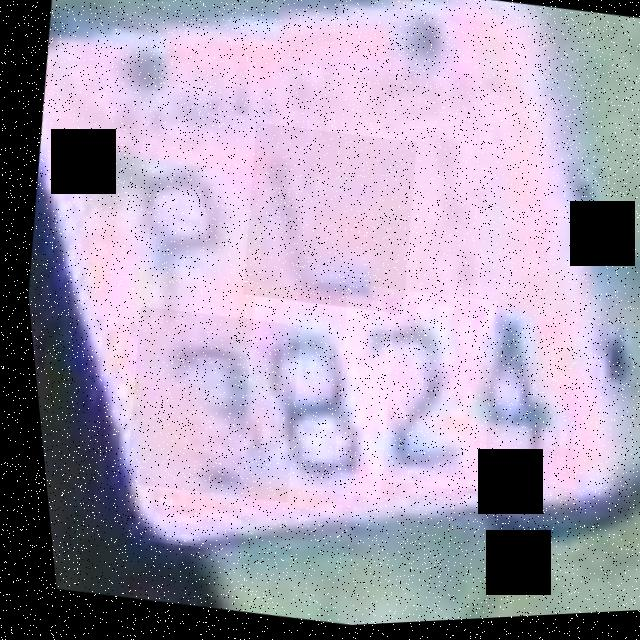2: (309, 281, 504, 503)
3: (103, 300, 308, 513)
4: (406, 270, 603, 496)
8: (216, 292, 402, 508)
J: (223, 119, 426, 324)
P: (86, 131, 260, 344)
